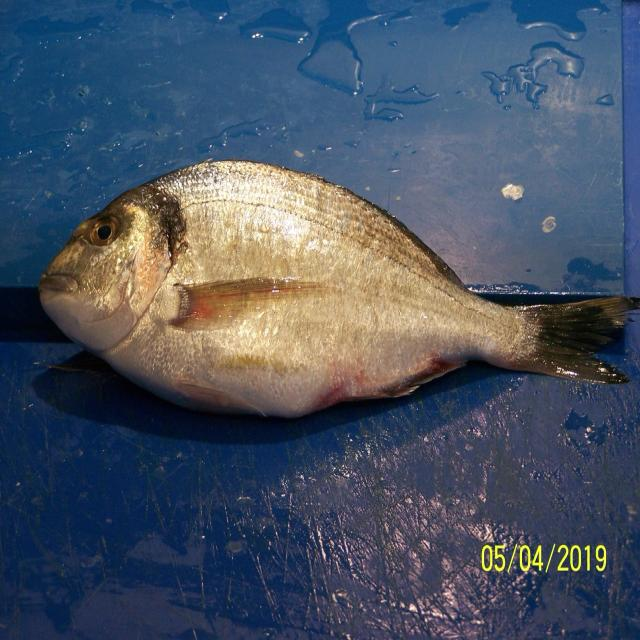Gilt-Head-Bream-c-ipura-: (37, 160, 634, 422)
